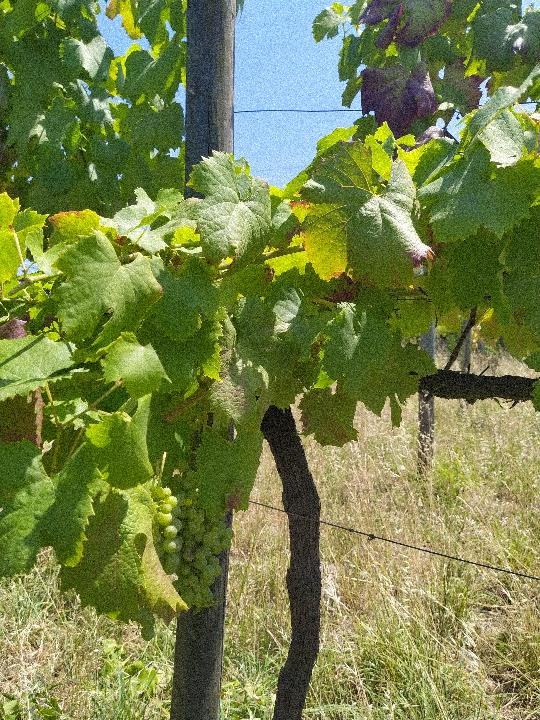grape: (152, 470, 240, 613)
